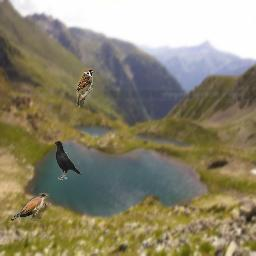Crow: (54, 140, 81, 180)
Cuckoo: (11, 193, 50, 221)
Sparrow: (76, 68, 93, 108)
